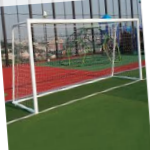goals: (10, 16, 143, 115)
